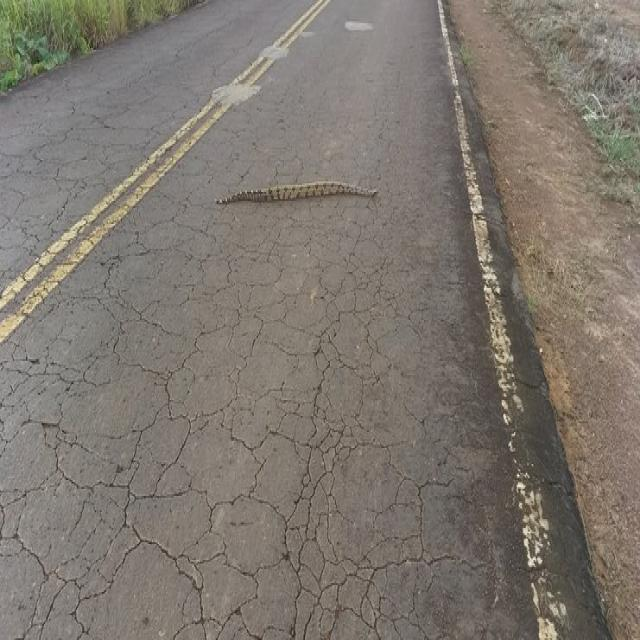Drain Hole: (80, 215, 570, 640)
